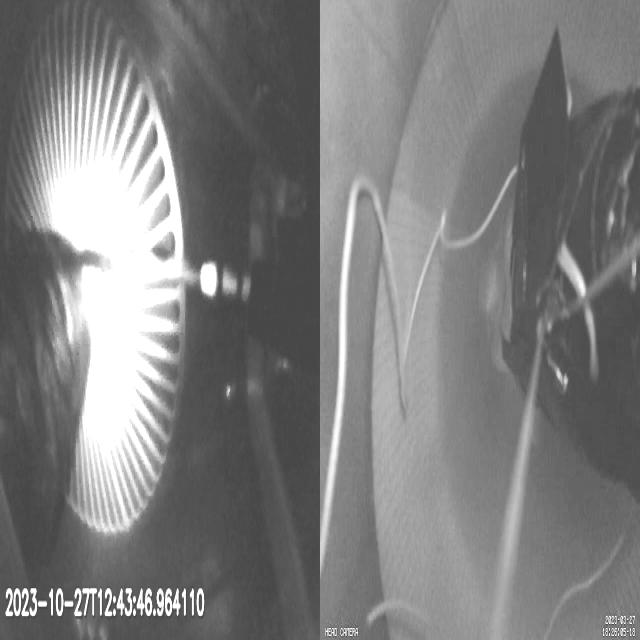white-dots: (199, 260, 251, 300)
